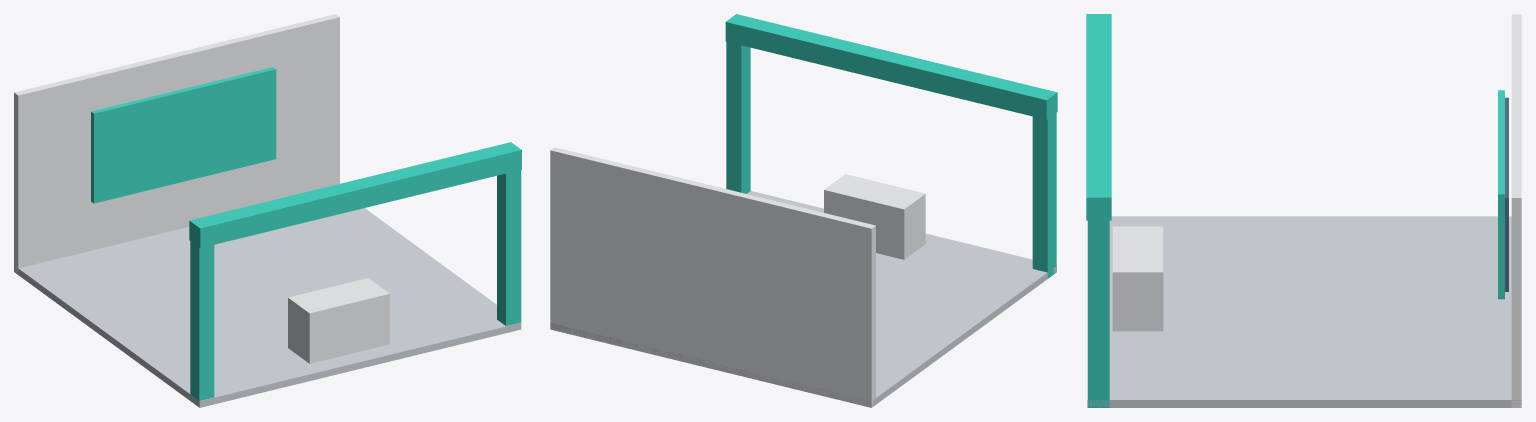
3 renders of one model, left to right at view 1: azimuth 30°, elevation 25°; view 2: azimuth 150°, elevation 25°; view 3: azimuth 270°, elevation 25°, orthographic. The views are drawn at different scales.
Visible parts, largest first — view 1: Exhibition Booth Concept; view 2: Exhibition Booth Concept; view 3: Exhibition Booth Concept.
Boxes of the visible parts, bbox=[...] form: Exhibition Booth Concept: bbox=[14, 14, 521, 407]; Exhibition Booth Concept: bbox=[550, 14, 1057, 407]; Exhibition Booth Concept: bbox=[1086, 14, 1521, 407].
Size of the model in its own units: 6 by 3.2 by 6.02.
